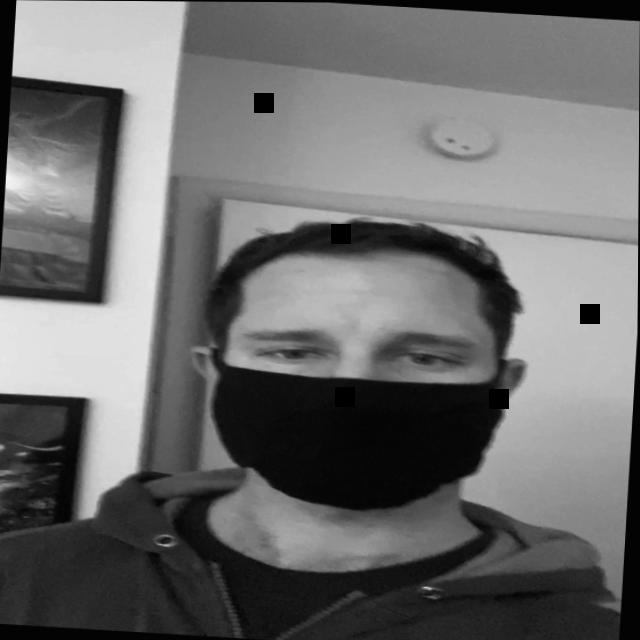Mask: (205, 235, 509, 517)
